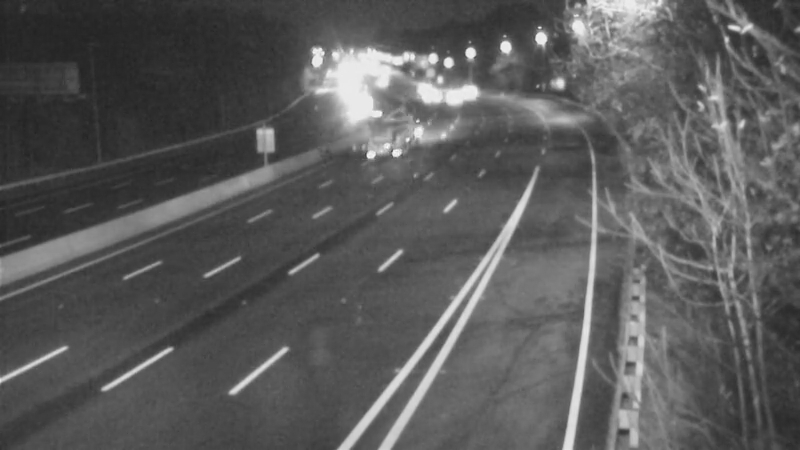vehicle: (424, 66, 474, 116), (401, 67, 451, 117), (450, 66, 500, 116), (366, 112, 416, 162), (333, 81, 383, 131)
